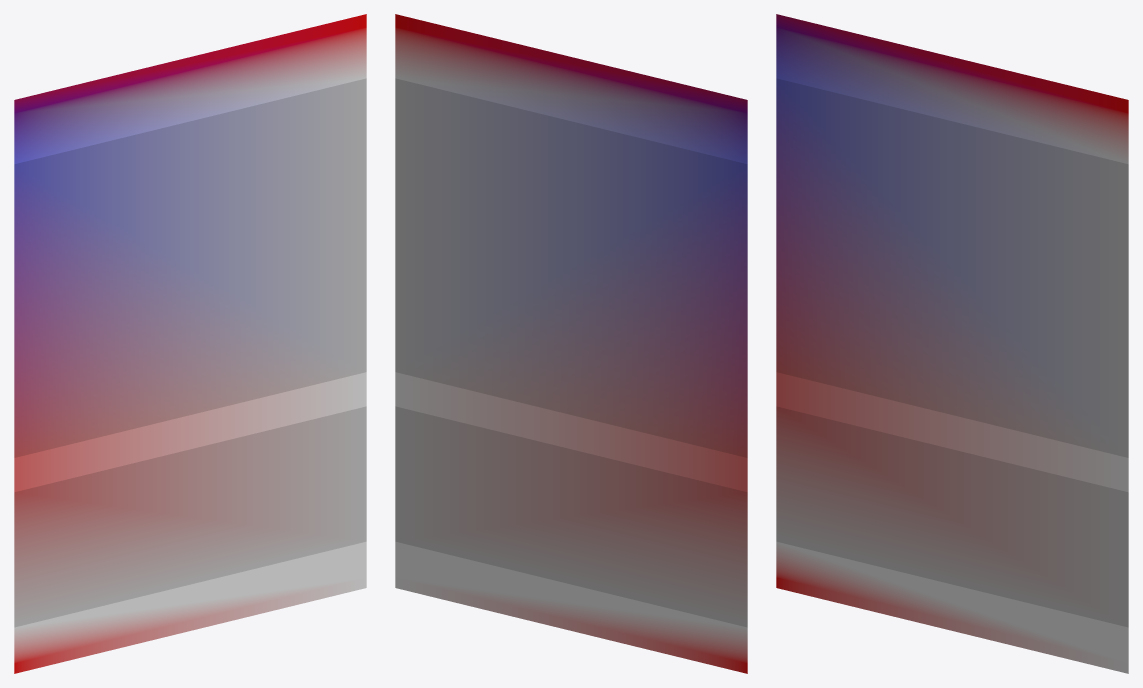
The picture shows the model from 3 angles, left to right: view 1: azimuth 30°, elevation 25°; view 2: azimuth 150°, elevation 25°; view 3: azimuth 330°, elevation 25°; orthographic projection.
Visible parts, largest first — view 1: SM_Bathroom_Wall_01_LOD0; view 2: SM_Bathroom_Wall_01_LOD0; view 3: SM_Bathroom_Wall_01_LOD0.
Boxes of the visible parts, x1,y1,x2,y2 form: SM_Bathroom_Wall_01_LOD0: (14, 14, 366, 673); SM_Bathroom_Wall_01_LOD0: (395, 14, 747, 673); SM_Bathroom_Wall_01_LOD0: (776, 14, 1128, 673).
Size of the model in its own units: 225 by 2.68e-05 by 350.
